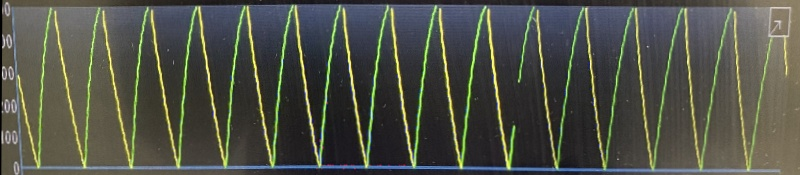normal_volume: (23, 1, 753, 174)
